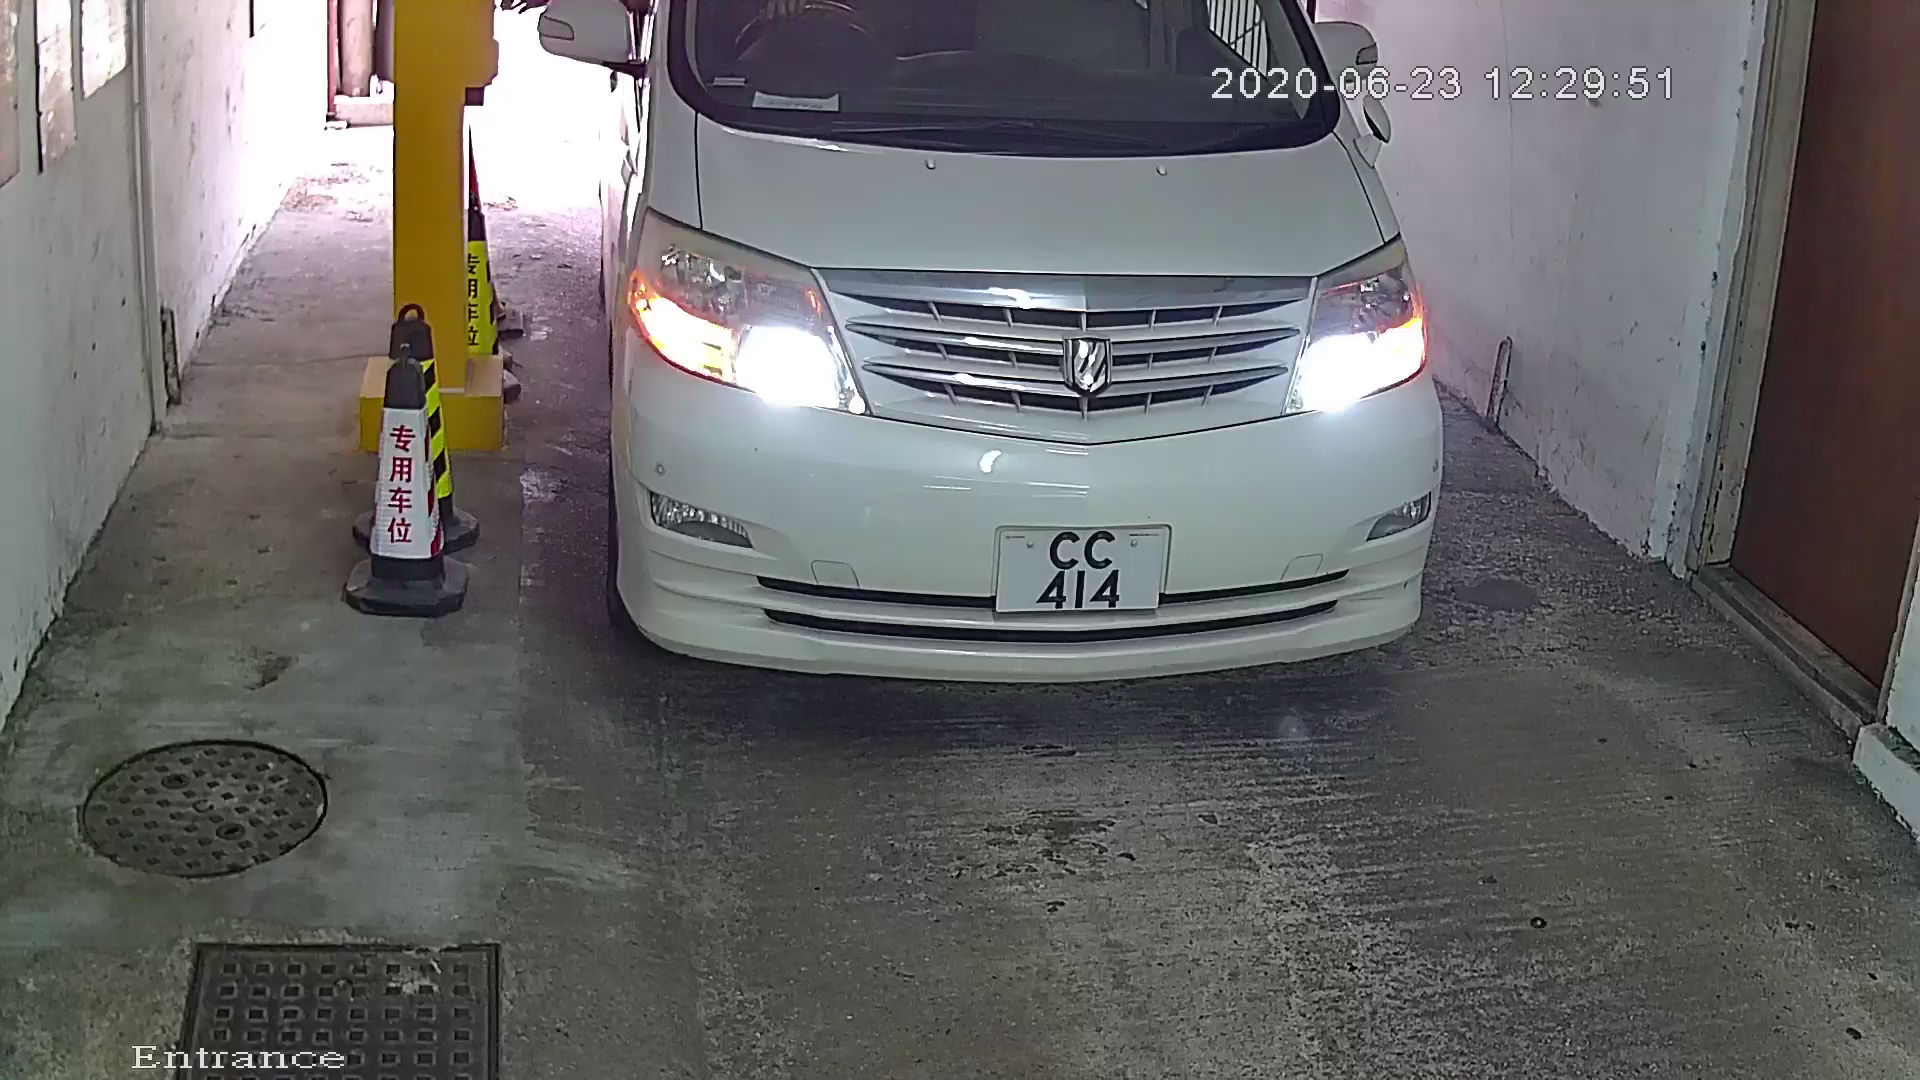privatecar: (524, 3, 1498, 738)
